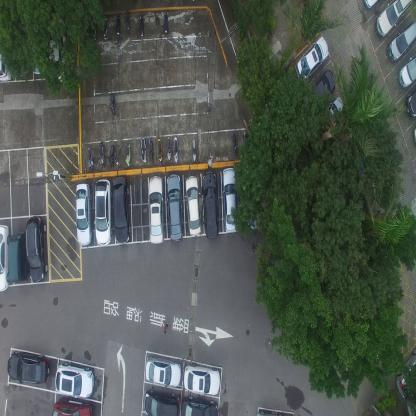car: (294, 34, 329, 86), (24, 215, 48, 283), (302, 67, 335, 116), (374, 0, 412, 39), (6, 351, 50, 384), (313, 96, 345, 140), (55, 362, 94, 398), (112, 175, 132, 244), (386, 18, 416, 64), (94, 176, 112, 247), (183, 363, 220, 397), (166, 173, 184, 242), (144, 355, 182, 387), (201, 171, 219, 238), (147, 174, 164, 244), (74, 182, 92, 247), (220, 168, 238, 232), (394, 346, 416, 398), (184, 176, 201, 237), (8, 231, 27, 282), (143, 389, 179, 415), (51, 398, 93, 416), (396, 52, 416, 89), (0, 222, 10, 293), (181, 397, 219, 415), (404, 86, 416, 119)
